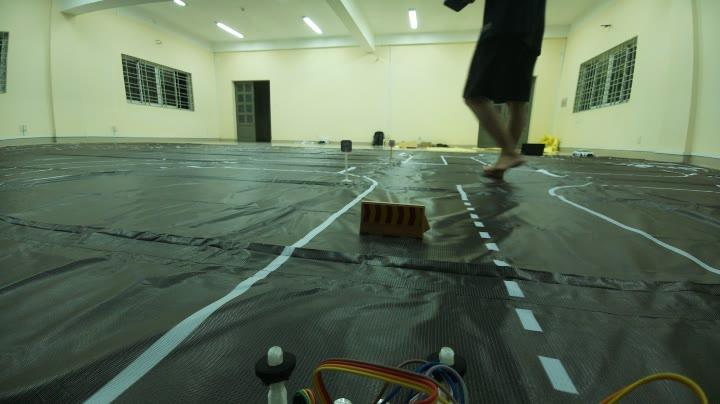roadblock: (354, 190, 440, 254)
